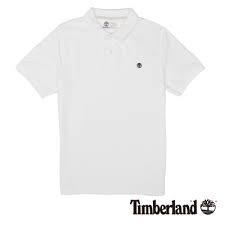C_polo shirt: (20, 9, 208, 196)
